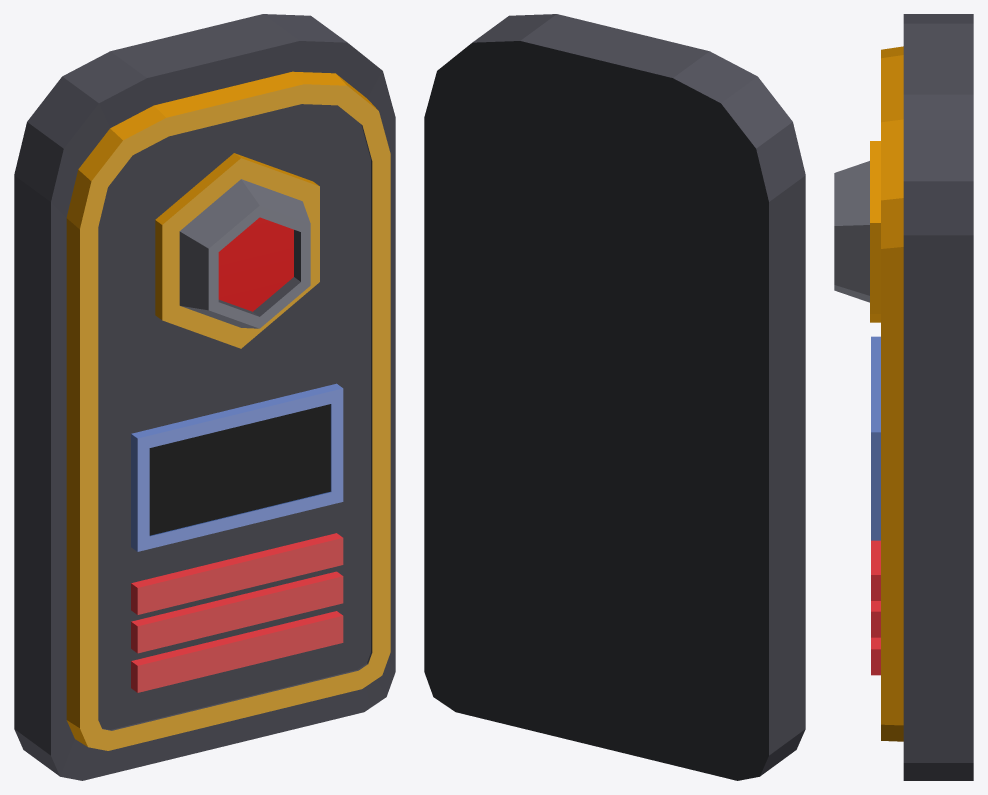
File: HAL9000_02.glb
The picture shows the model from 3 angles, left to right: view 1: azimuth 30°, elevation 25°; view 2: azimuth 150°, elevation 25°; view 3: azimuth 270°, elevation 25°; orthographic projection. The views are drawn at different scales.
Visible parts, largest first — view 1: HAL9000_02; view 2: HAL9000_02; view 3: HAL9000_02.
Boxes of the visible parts, x1,y1,x2,y2 form: HAL9000_02: (14,14,395,780); HAL9000_02: (424,14,805,780); HAL9000_02: (834,14,973,780).
Size of what is drawn, in the model's own units: 0.3859 by 0.7346 by 0.1416.
1 material, 1 textured.
